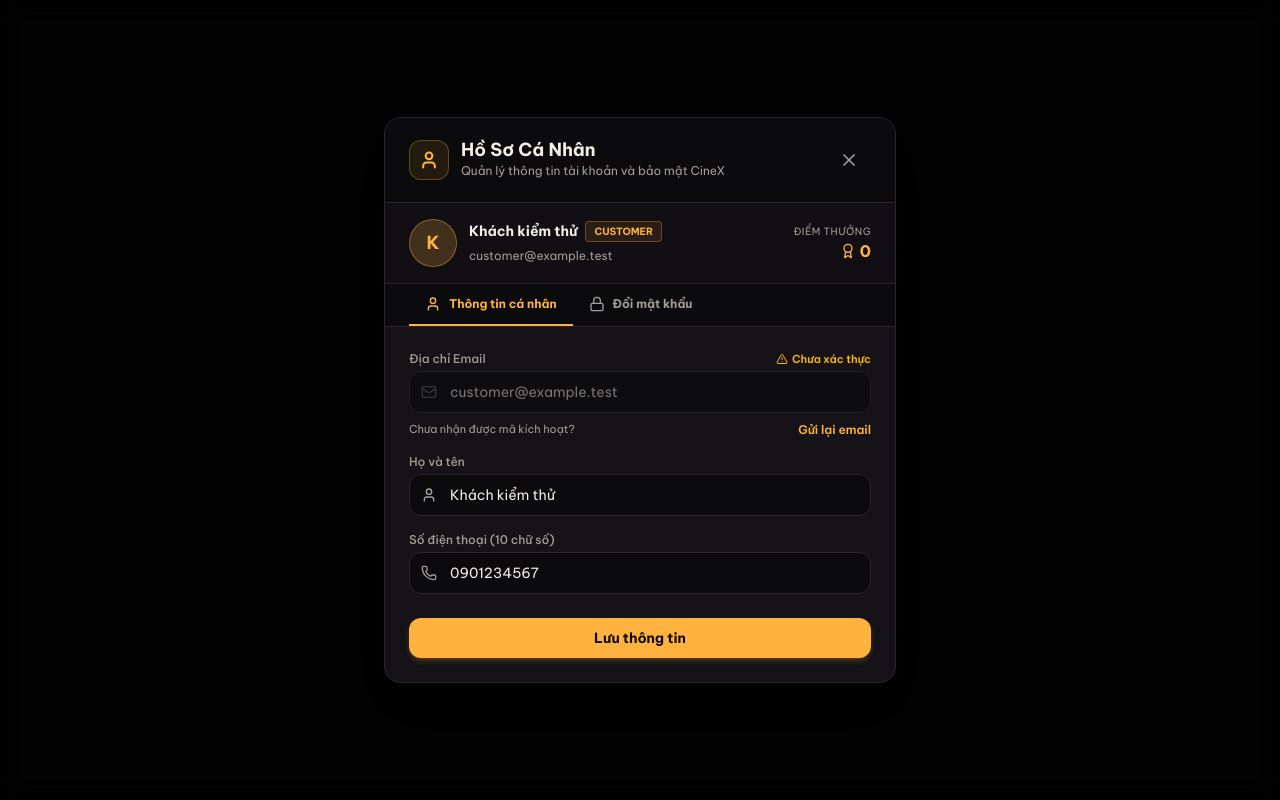
Test case: UserProfileModal › updates profile successfully
The image size is (1280, 800).
Replace the text in the field showing "Khách kiểm thử" below "Họ và tên" with "Nguyễn Văn Mới" at {"x": 640, "y": 495}, box x1=409 y1=474 x2=871 y2=516
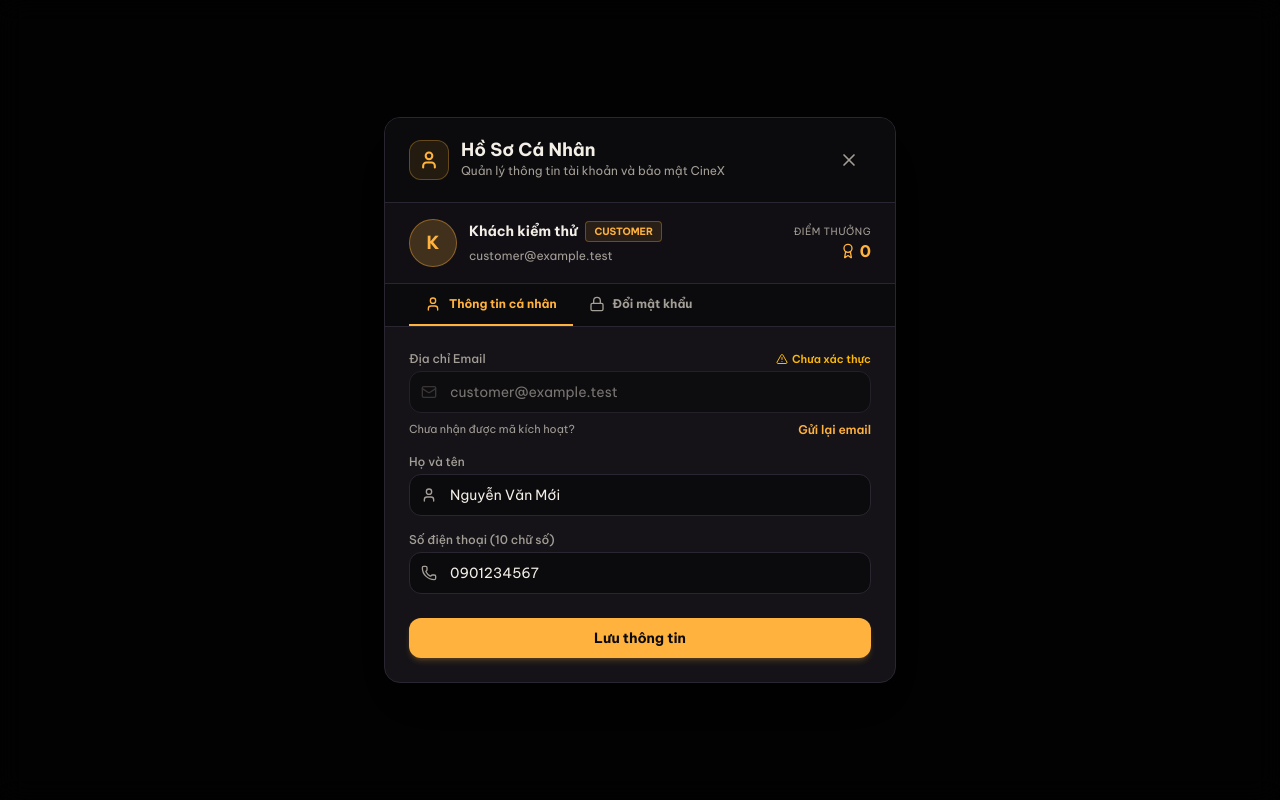
Click the button "Lưu thông tin" at {"x": 640, "y": 638}, box x1=409 y1=618 x2=871 y2=658
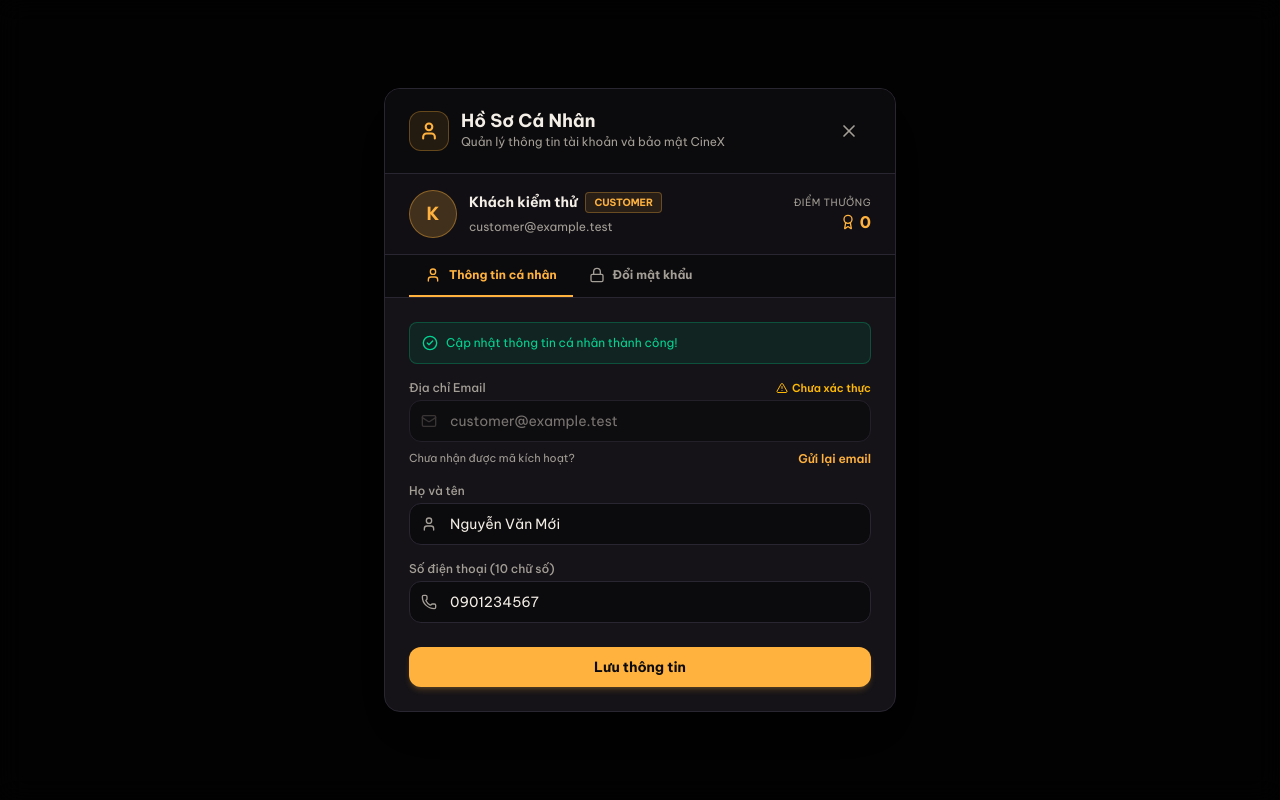
Now the text "Cập nhật thông tin cá nhân thành công!" is shown, box x1=446 y1=335 x2=678 y2=351
